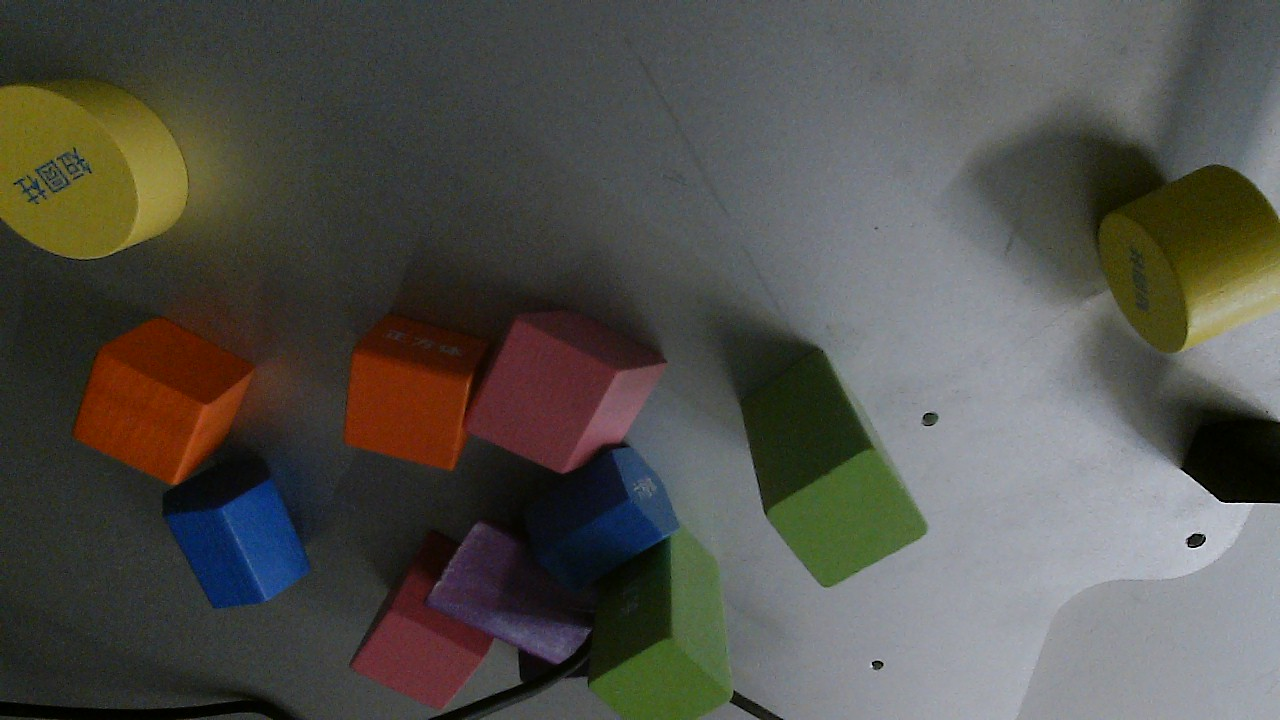circle: (1086, 158, 1280, 357), (1, 69, 191, 265)
diamond: (468, 305, 672, 471), (355, 573, 494, 714)
hexagon: (502, 443, 679, 594), (158, 459, 311, 615)
rectangle: (737, 345, 925, 580), (582, 522, 734, 715)
square: (76, 319, 256, 494), (343, 315, 485, 480)
triangle: (428, 519, 592, 669)
